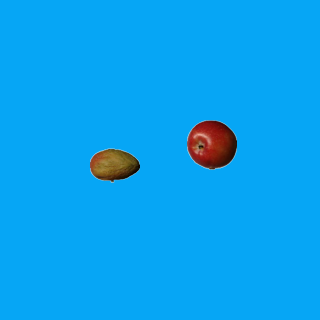Apple Braeburn: (186, 119, 236, 169)
Papaya: (89, 140, 139, 190)
